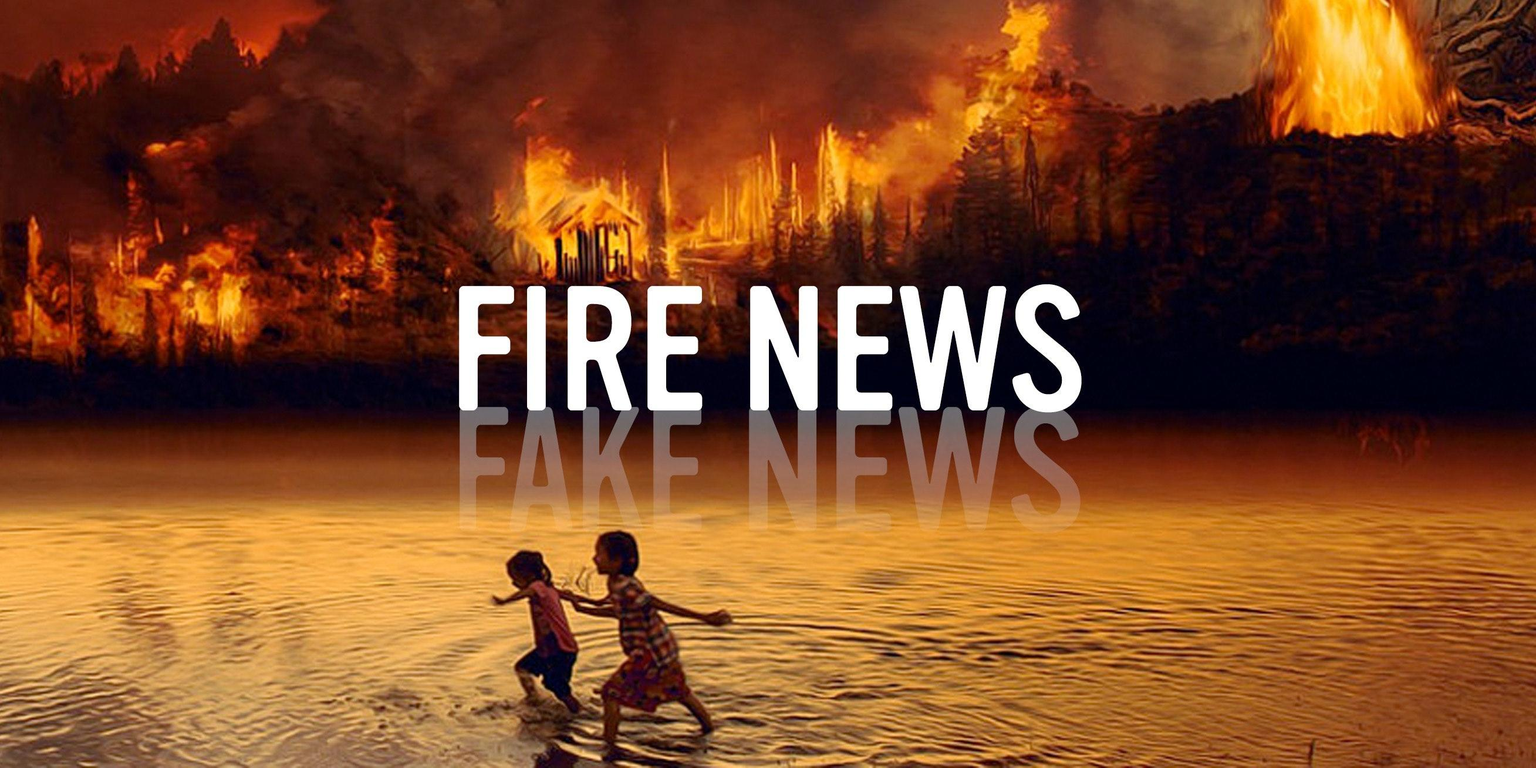victim: (579, 527, 736, 754), (487, 545, 594, 731)
